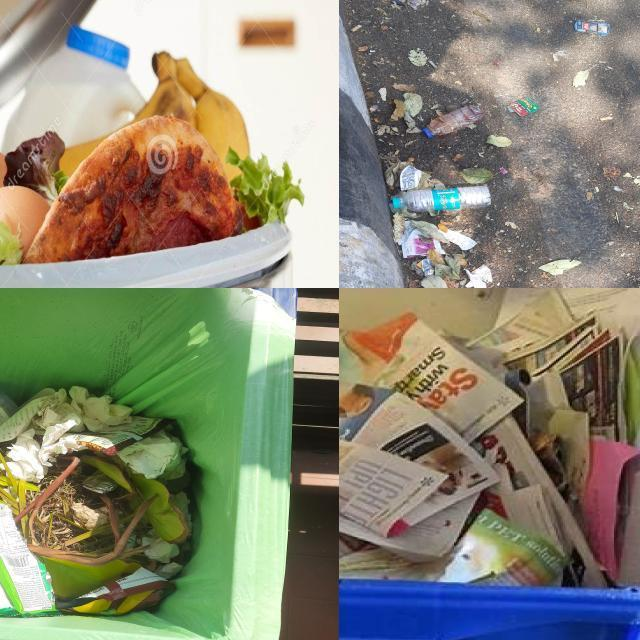Background: (341, 0, 640, 288)
Cig_bud: (428, 60, 438, 69), (351, 24, 362, 32), (600, 116, 612, 121)
Cig_pack: (574, 20, 610, 36)
Garbage: (339, 292, 640, 586), (0, 14, 315, 266), (0, 386, 192, 617)
Metal: (82, 471, 117, 493)
Plastic_Container: (2, 25, 145, 153)
Plastic_bottle: (422, 106, 484, 138)
Plastic_wraper: (0, 501, 57, 615), (56, 568, 176, 615), (66, 417, 172, 455), (507, 98, 540, 116), (34, 427, 45, 443), (500, 167, 508, 174)
